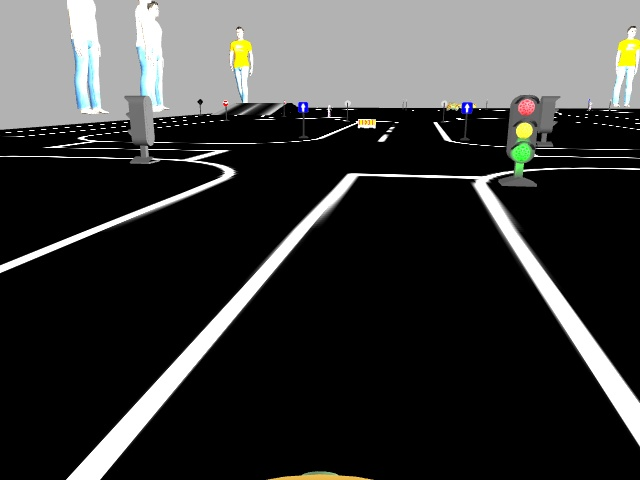ClosedRoadStand: (357, 118, 375, 127)
OneWay: (462, 101, 471, 113), (298, 101, 306, 111)
TrafficLight: (506, 92, 536, 163)
